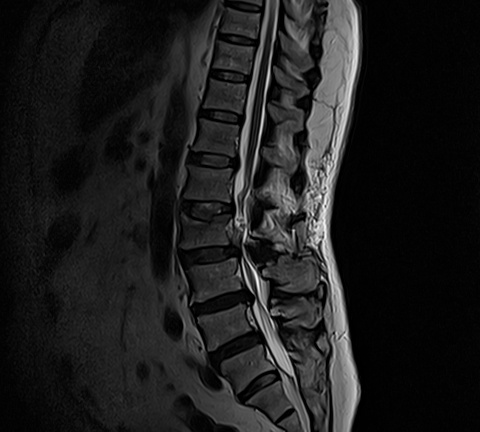L1,v2: (181, 116, 250, 157)
L1-L2,v1: (181, 140, 244, 182)
L2,v2: (176, 162, 240, 203)
L2-L3,v2: (172, 189, 239, 229)
L3,v2: (176, 214, 236, 251)
L3-L4,v2: (174, 232, 240, 276)
L4,v2: (184, 257, 245, 301)
L4-L5,v2: (188, 282, 252, 323), (204, 329, 264, 364)
L5,v2: (213, 338, 275, 384), (191, 305, 255, 345)
L5-S1,v1: (229, 368, 286, 401)
T12-L1,v1: (190, 97, 250, 135)
